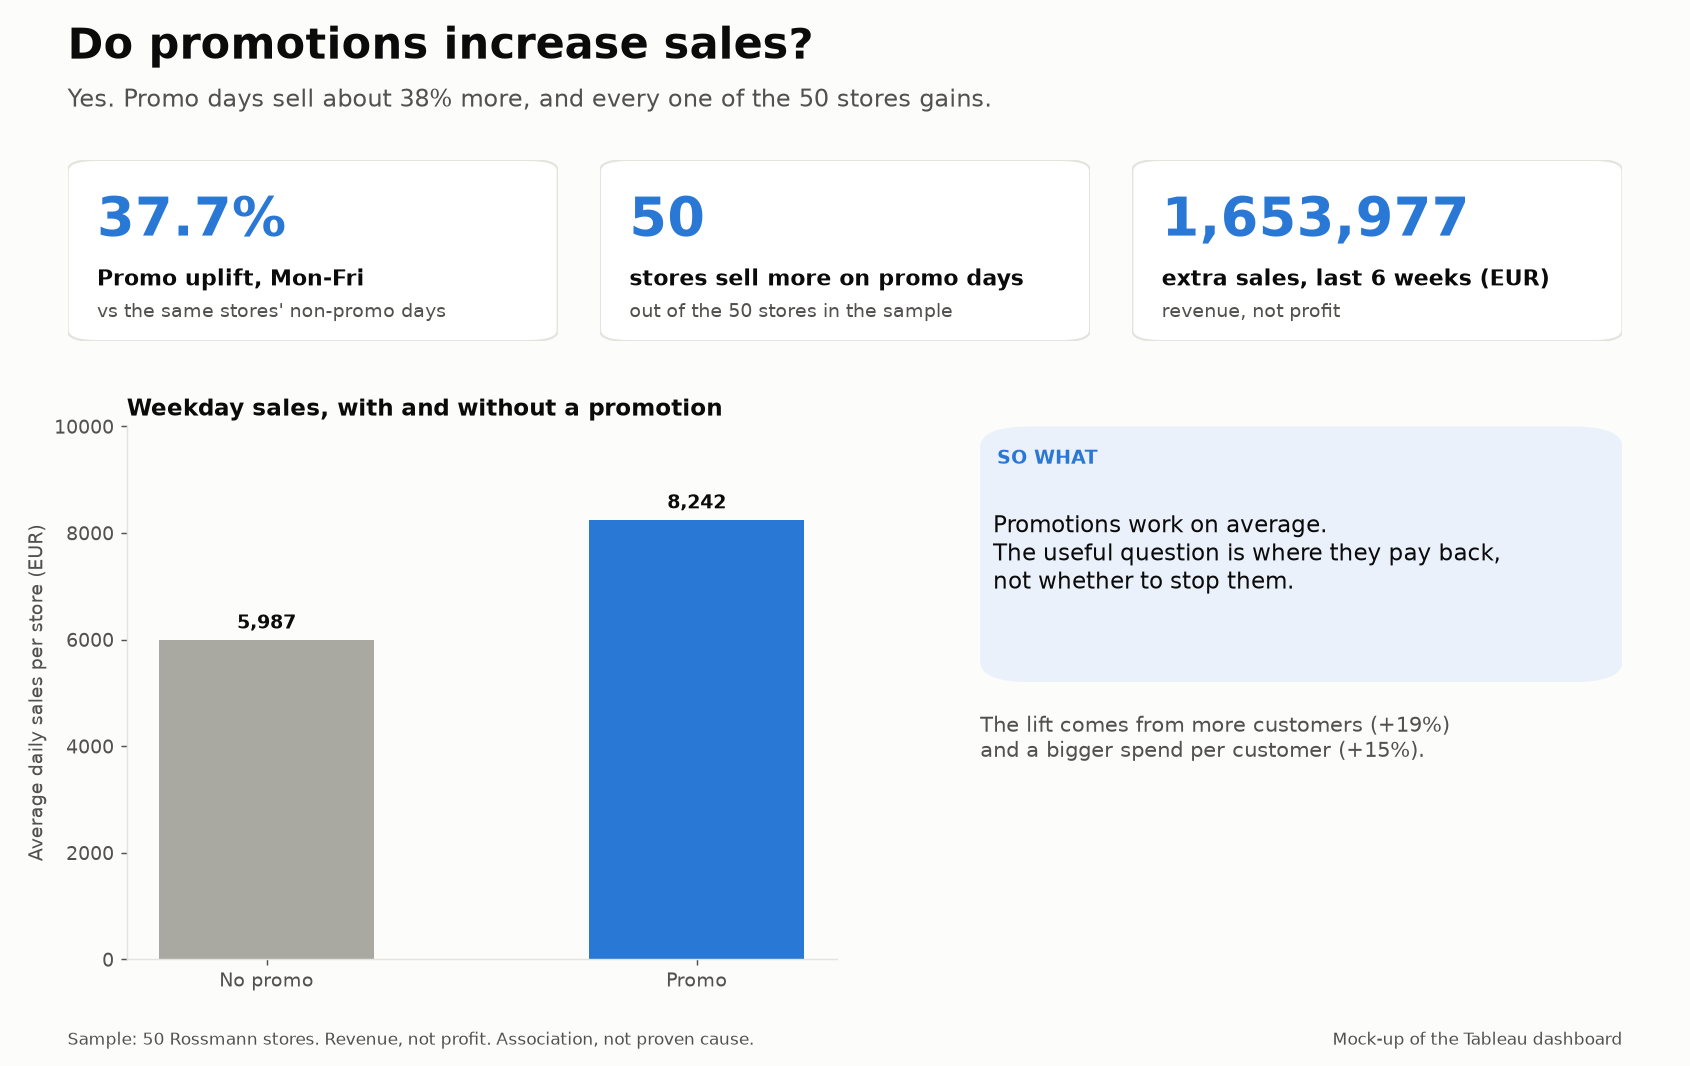

This screenshot's page, from the dashboard's own definition file:
{"tool":"tableau","page":{"name":"Dashboard 1","canvas":[1000,1000],"units":"permille","ordinal":0},"visuals":[{"type":"worksheet","title":"Sheet 1","mark":"Automatic","box":[6.4,10.7,269.1,238.9]},{"type":"worksheet","title":"Sheet 2","mark":"Automatic","box":[275.5,10.7,306.2,238.9]},{"type":"worksheet","title":"Sheet 3","mark":"Text","box":[581.6,10.7,284.9,238.9]},{"type":"legend","title":"Sheet 4","param":"[federated.06fl1ii17ogc4s10ol3xh1hn9xuj].[none:PromoLabel:nk]","box":[866.6,10.7,127.1,88.4]},{"type":"worksheet","title":"Sheet 4","mark":"Automatic","rows":["AvgSales"],"cols":["PromoLabel"],"box":[6.4,249.7,860.2,739.6]}]}

Visuals, with their boxes on the dashboard's canvas, which has no fixed pixel size, in thousandths of its width and height (x1, y1, x2, y2). These are canvas units, not pixel positions in the 1690x1066 screenshot, which may show the page scaled, cropped or inside an application window:
"Sheet 1" worksheet: select_region(6, 11, 276, 250)
"Sheet 2" worksheet: select_region(276, 11, 582, 250)
"Sheet 3" worksheet (Text marks): select_region(582, 11, 866, 250)
"Sheet 4" legend: select_region(867, 11, 994, 99)
"Sheet 4" worksheet: select_region(6, 250, 867, 989)
